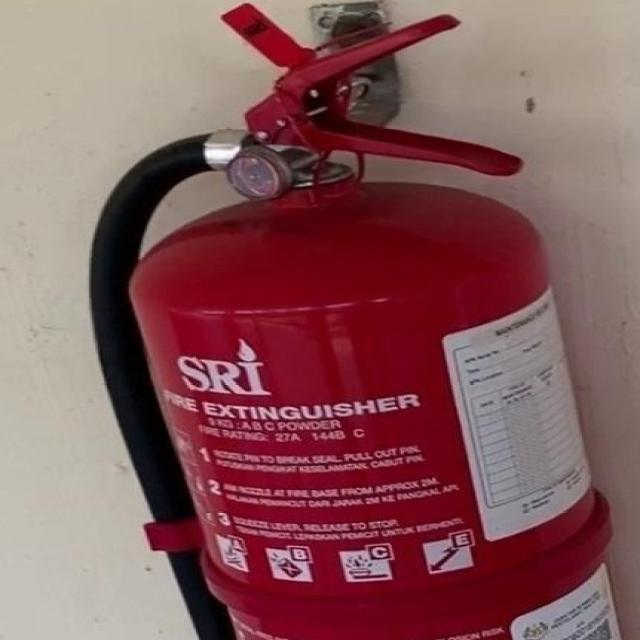fire_extinguisher: (77, 2, 639, 639)
